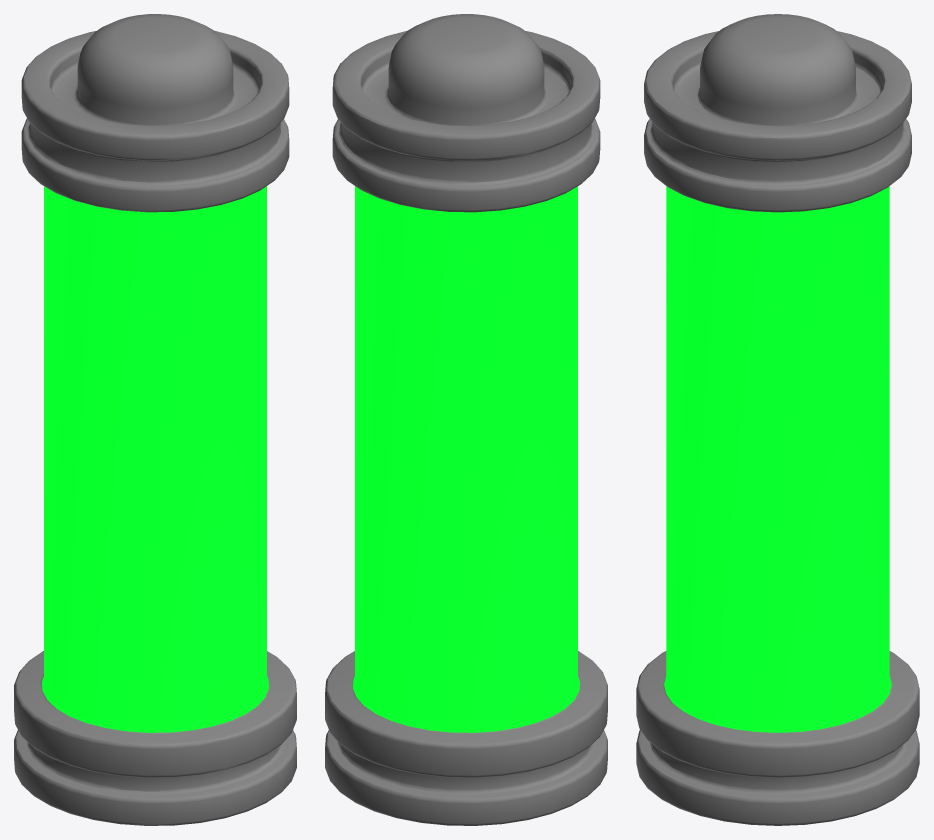
Rendered from Science_vial_green.fbx.
3 renders of one model, left to right at view 1: azimuth 30°, elevation 25°; view 2: azimuth 150°, elevation 25°; view 3: azimuth 270°, elevation 25°, orthographic.
Visible parts, largest first — view 1: Cylinder; view 2: Cylinder; view 3: Cylinder.
Boxes of the visible parts, x1=… form: Cylinder: x1=14, y1=14, x2=296, y2=825; Cylinder: x1=325, y1=14, x2=607, y2=825; Cylinder: x1=636, y1=14, x2=919, y2=825.
Size of the model in its own units: 99.73 by 285 by 99.73.
